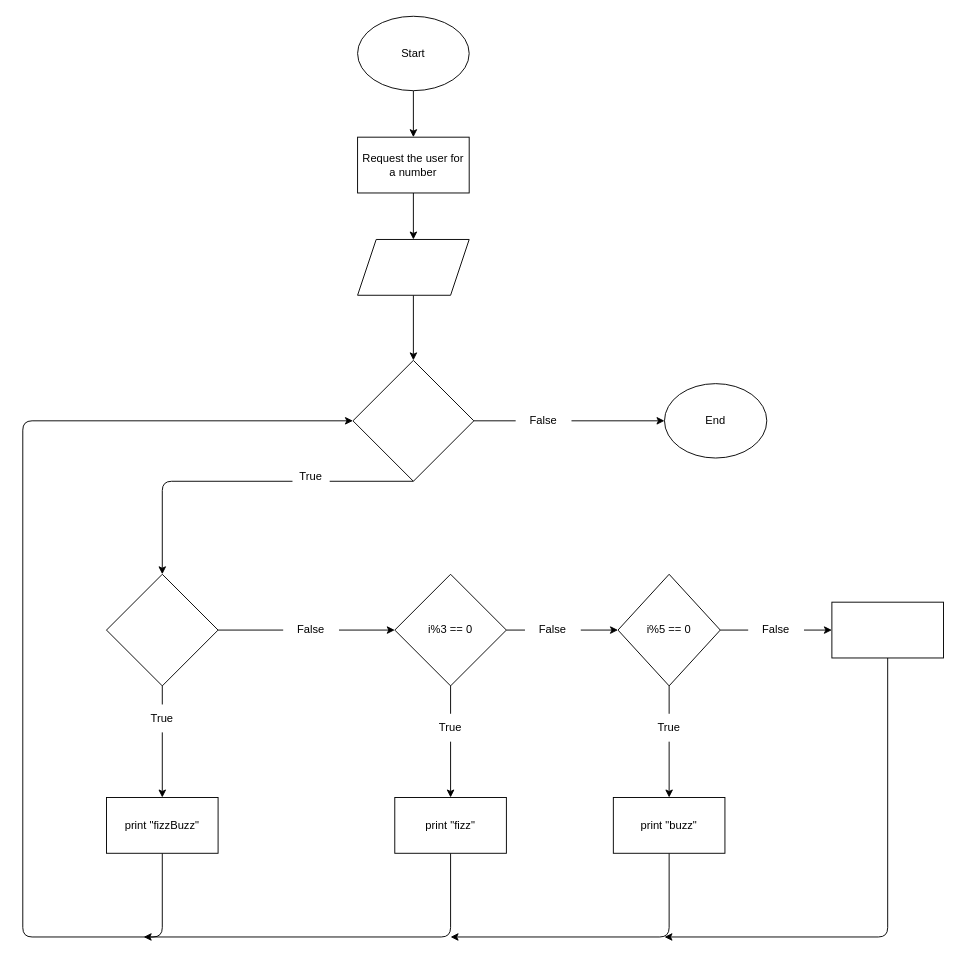
Image size: 960x961. Some labels were removed from this diagram. Each missing label, with the box of its shape:
i %3 == 0 and i%5 == 0: (106, 573, 218, 686)
i = 1 i <= rangeUser: (352, 359, 474, 481)
int: rangeUser: (357, 239, 469, 295)
print i: (831, 601, 943, 658)
